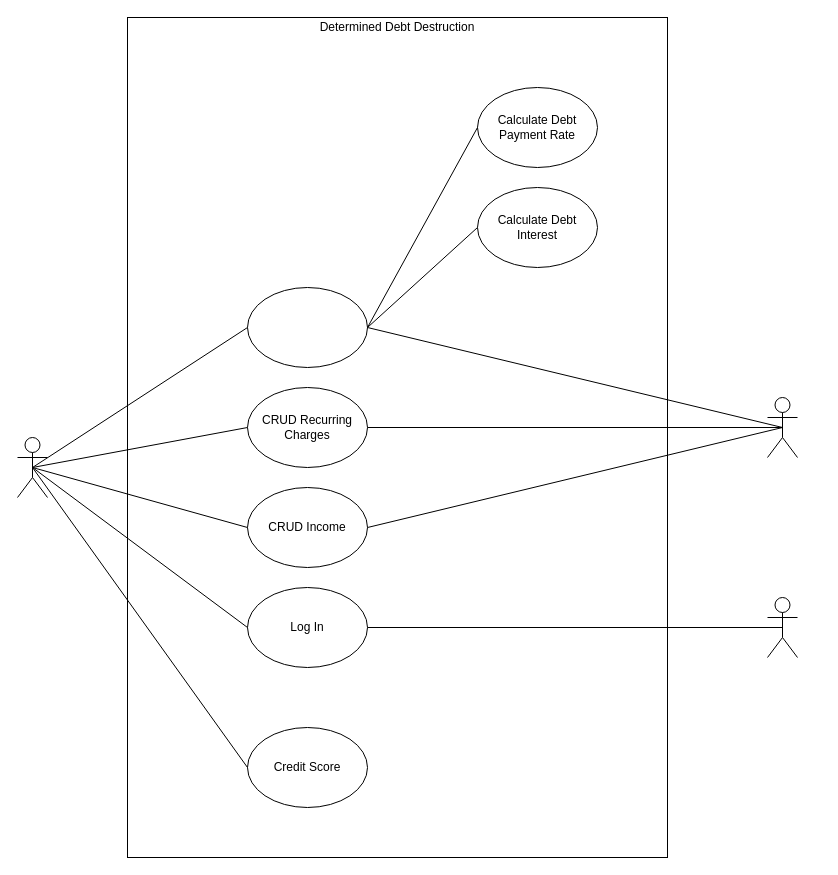
Image size: 838x875. Some labels were removed from this diagram. Here are the shapes that lost their labels. From the top down, the centre of each, then its label:
At point (307, 327): "CRUD Debt Account".
At point (782, 427): "Database/ Flat-file".
At point (32, 467): "User".
At point (782, 627): "Authentication".
